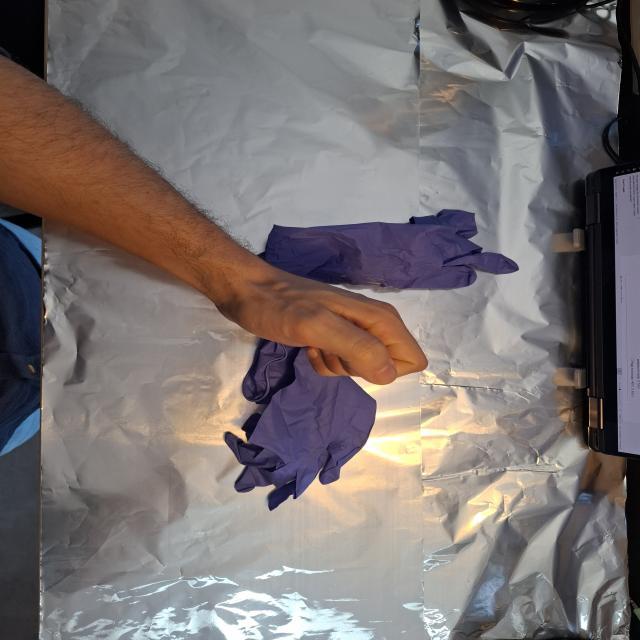glove_off: (212, 262, 430, 386)
